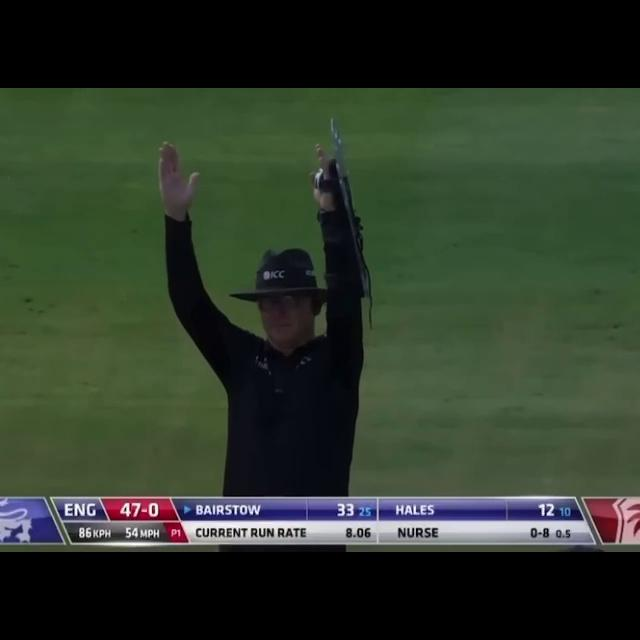umpire: (133, 117, 384, 500)
